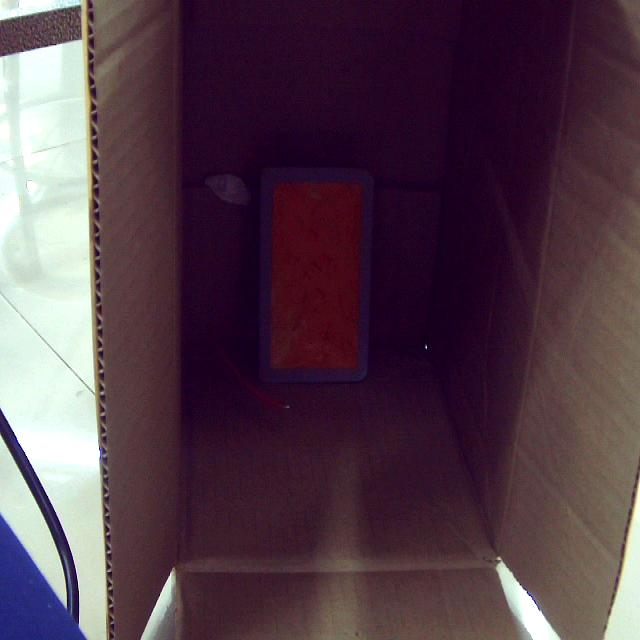block: (256, 165, 374, 388)
